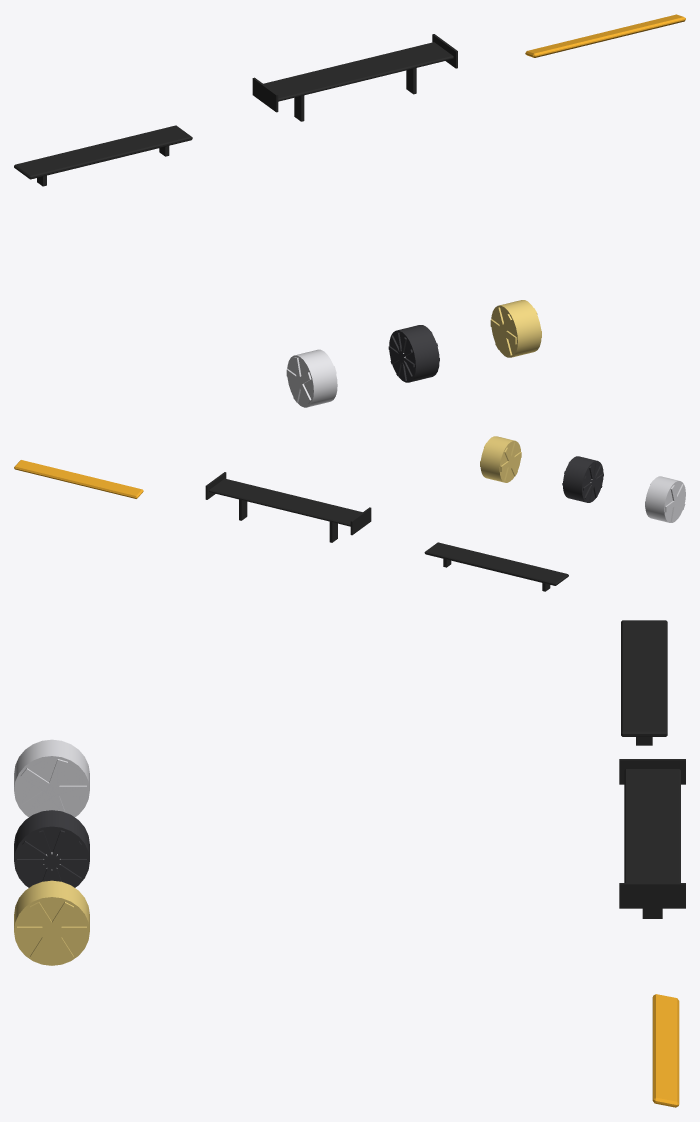
File: player_car_parts.glb
3 renders of one model, top to bottom at view 1: azimuth 30°, elevation 25°; view 2: azimuth 150°, elevation 25°; view 3: azimuth 270°, elevation 25°, orthographic. The views are drawn at different scales.
Visible parts, largest first — view 1: spoiler_B, spoiler_A, rims_A, rims_C, rims_B, spoiler_C; view 2: spoiler_B, spoiler_A, rims_C, rims_B, rims_A, spoiler_C; view 3: spoiler_B, spoiler_A, rims_C, rims_A, rims_B, spoiler_C.
Part boxes in pixels (x1,y1,x2,y2): spoiler_B: [252, 34, 457, 121]; spoiler_A: [14, 125, 192, 186]; rims_A: [286, 349, 337, 407]; rims_C: [490, 300, 541, 357]; rims_B: [388, 325, 439, 382]; spoiler_C: [525, 14, 685, 57]; spoiler_B: [205, 472, 371, 542]; spoiler_A: [424, 542, 568, 591]; rims_C: [480, 436, 521, 482]; rims_B: [562, 456, 603, 502]; rims_A: [645, 476, 685, 522]; spoiler_C: [14, 460, 143, 498]; spoiler_B: [619, 759, 685, 918]; spoiler_A: [621, 620, 667, 745]; rims_C: [14, 880, 89, 965]; rims_A: [14, 739, 89, 817]; rims_B: [14, 810, 89, 887]; spoiler_C: [652, 994, 679, 1107].
Size of the model in its own units: 6.55 by 1.13 by 4.03.
